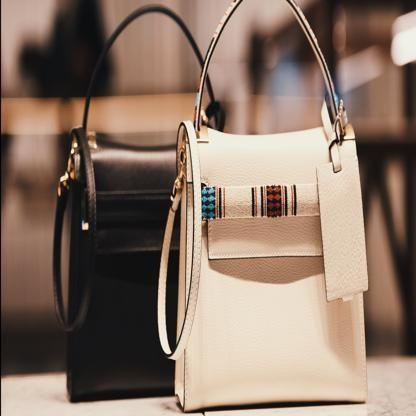not trash: (175, 0, 371, 416), (64, 8, 202, 404)
